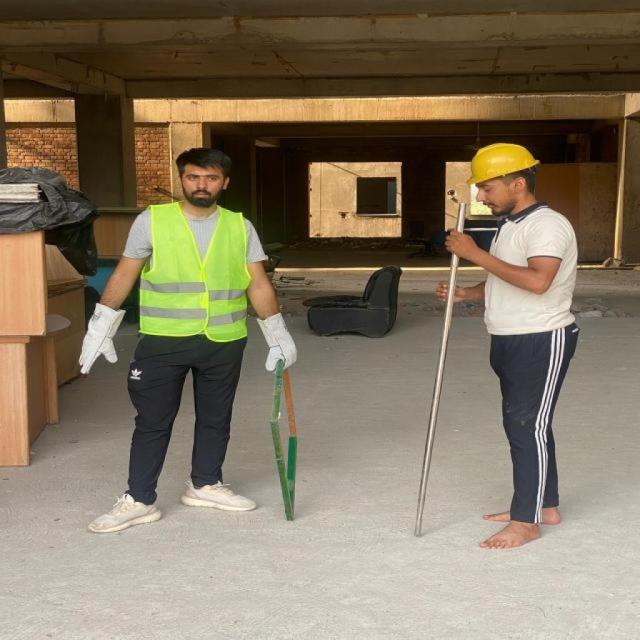Gloves-Detection: (82, 300, 124, 372), (254, 312, 296, 370)
